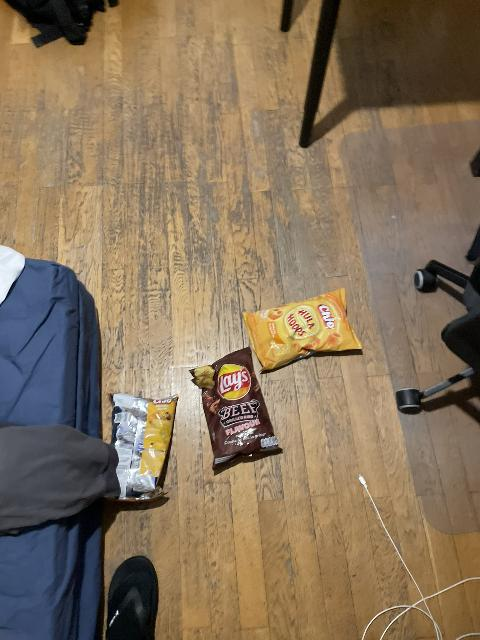Chio Cascaval 125g: (106, 389, 179, 499)
Chio Hula Hoops Cheese 70g: (243, 289, 361, 370)
Lays Beef Grilled Ribs 125g: (193, 349, 287, 470)
